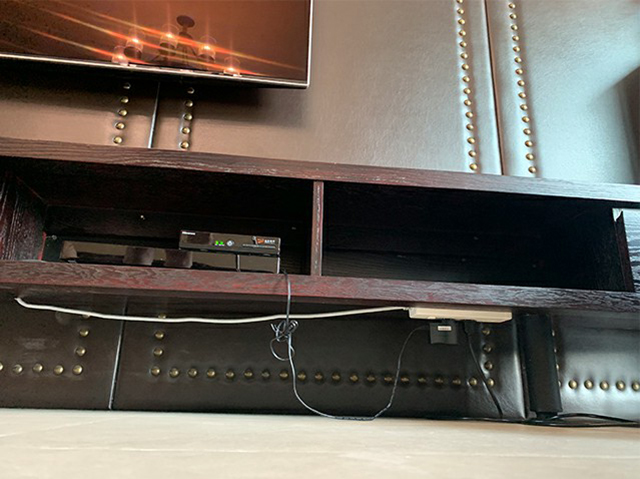cabinet: (1, 138, 640, 425)
wire: (255, 302, 460, 427), (465, 307, 640, 426)
